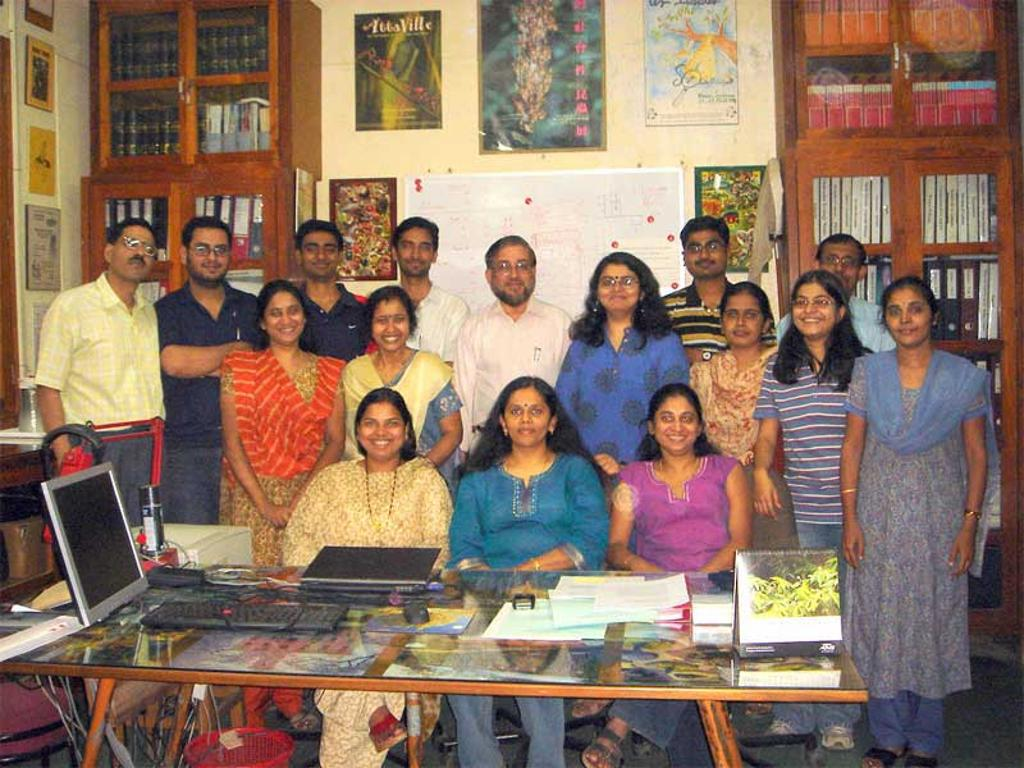face: (654, 401, 700, 452), (886, 296, 933, 345), (359, 406, 405, 455), (505, 395, 550, 444), (187, 230, 230, 280), (794, 289, 837, 336), (493, 255, 536, 302), (113, 231, 155, 279), (723, 299, 764, 344), (264, 298, 305, 343), (373, 303, 411, 350), (821, 249, 859, 295), (685, 236, 727, 276), (603, 268, 640, 311), (302, 234, 340, 275), (399, 231, 433, 275)
